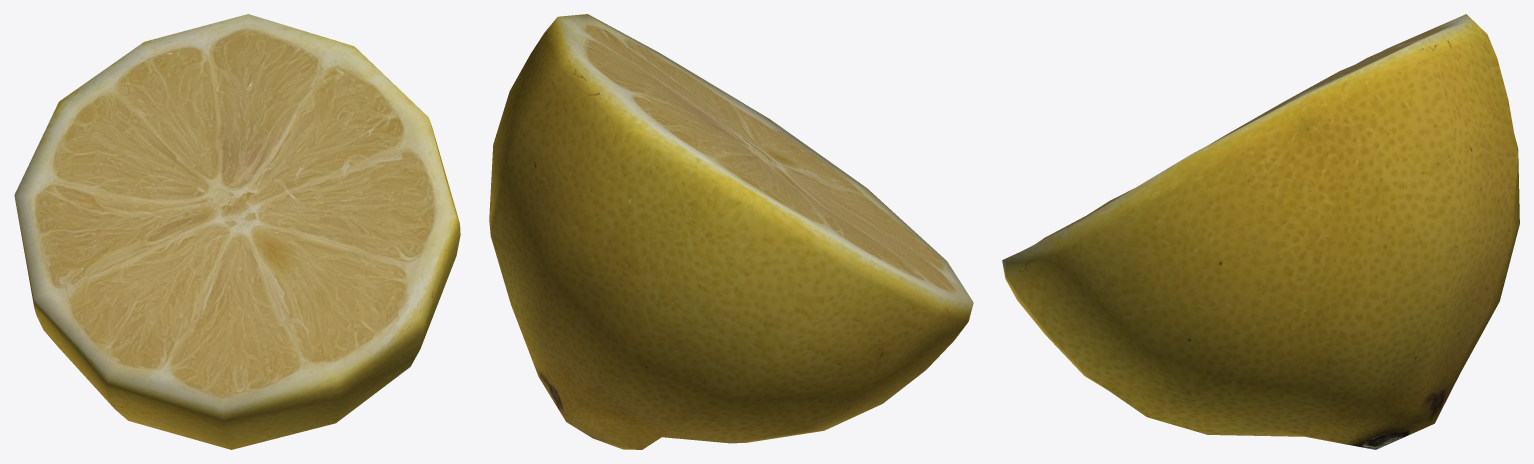
The model's file is A121_Lemon_Half_low.fbx.
3 views of the same model, side by side, from view 1: azimuth 30°, elevation 25°; view 2: azimuth 150°, elevation 25°; view 3: azimuth 270°, elevation 25° (orthographic). The views are drawn at different scales.
Parts seen in each view (by area): view 1: A121_Lemon_Half_low; view 2: A121_Lemon_Half_low; view 3: A121_Lemon_Half_low.
Boxes of the visible parts, bbox=[...] form: A121_Lemon_Half_low: bbox=[14, 14, 460, 449]; A121_Lemon_Half_low: bbox=[489, 14, 973, 449]; A121_Lemon_Half_low: bbox=[1002, 14, 1519, 449].
Bounding box in the file's own units: 4.03 × 3.92 × 3.5.
Materials: 1 (1 with a texture image).
